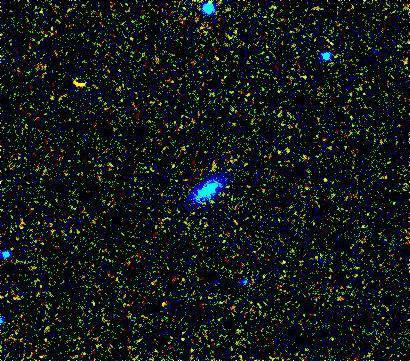star: (65, 72, 95, 102)
